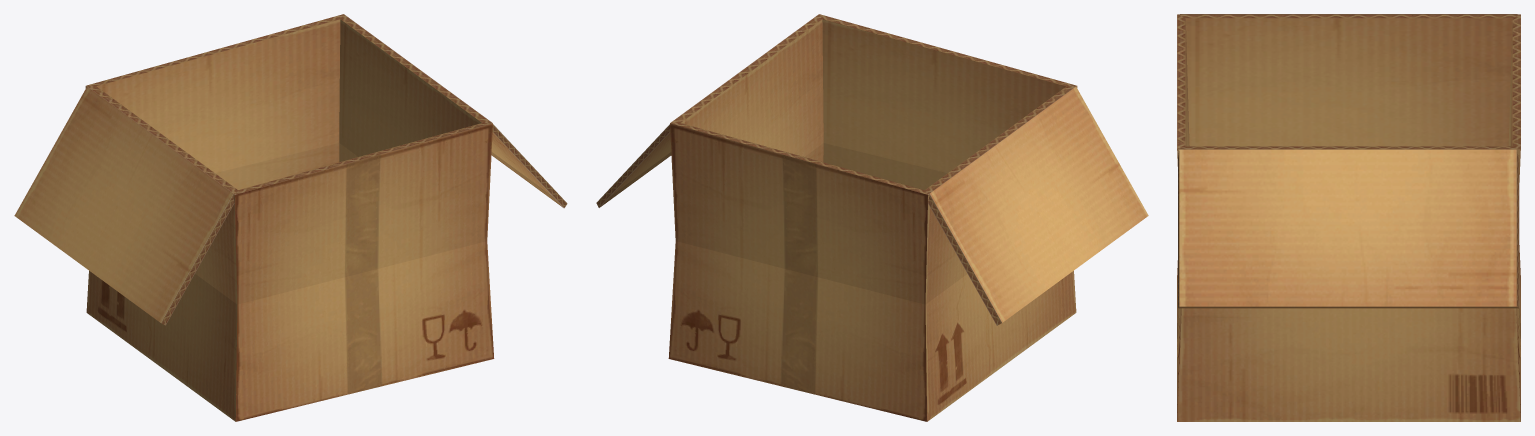
The model's file is box-open.glb.
The picture shows the model from 3 angles, left to right: view 1: azimuth 30°, elevation 25°; view 2: azimuth 150°, elevation 25°; view 3: azimuth 270°, elevation 25°; orthographic projection. The views are drawn at different scales.
Parts seen in each view (by area): view 1: Box_Open_2_box_m_0; view 2: Box_Open_2_box_m_0; view 3: Box_Open_2_box_m_0.
Part boxes in pixels (<box>): Box_Open_2_box_m_0: <box>14,14,567,421</box>; Box_Open_2_box_m_0: <box>596,14,1148,421</box>; Box_Open_2_box_m_0: <box>1177,14,1520,421</box>.
Size of the model in its own units: 0.8208 by 0.4554 by 0.5219.
Materials: 1 (1 with a texture image).
